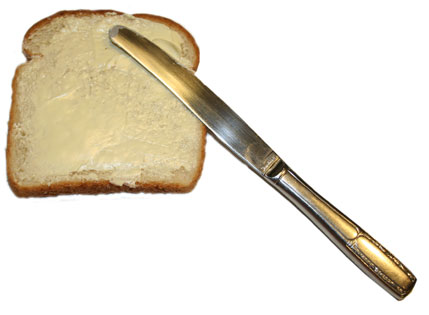slice of bread: (12, 11, 208, 196)
